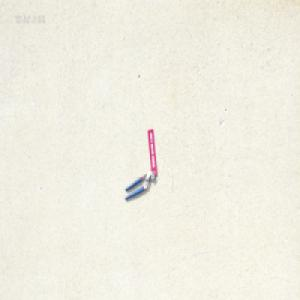Label: (147, 128, 157, 176)
Pliers: (124, 169, 155, 200)
